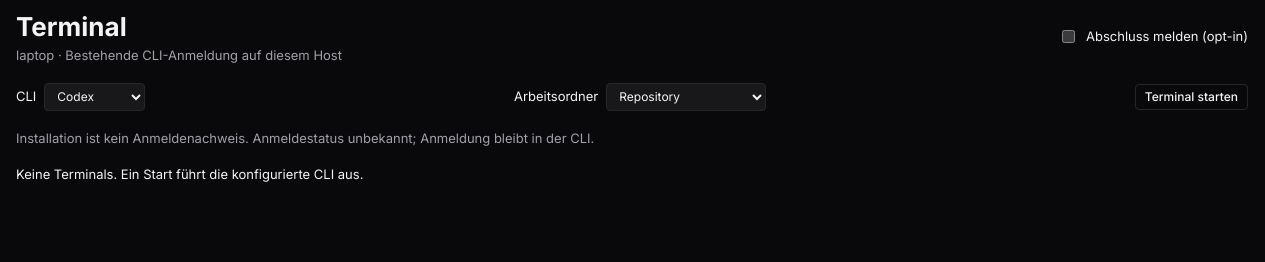
Test case: terminal robustness › explains start failures (400) and an outdated host service (404) in German
The width and height of the screenshot is (1265, 262).
Click the button "Terminal starten": (1191, 96) [1135,84,1248,110]
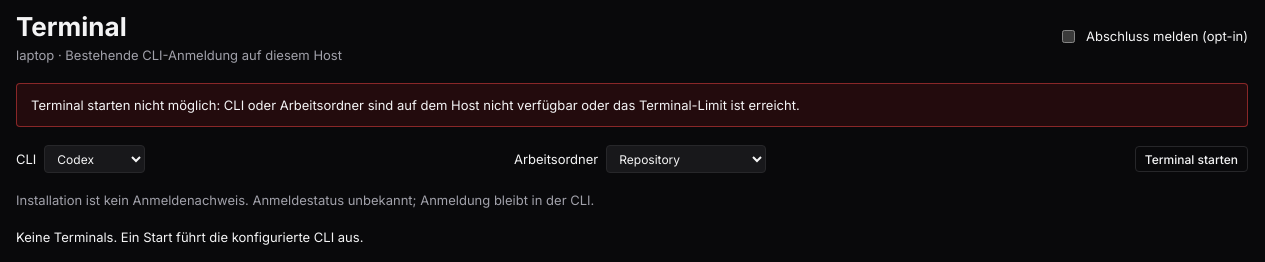
expect the 1st message shows "CLI oder Arbeitsordner sind auf dem Host nicht verfügbar": met, box [31,96,800,112]
Click the button "Terminal starten": (1191, 159) [1135,146,1248,172]
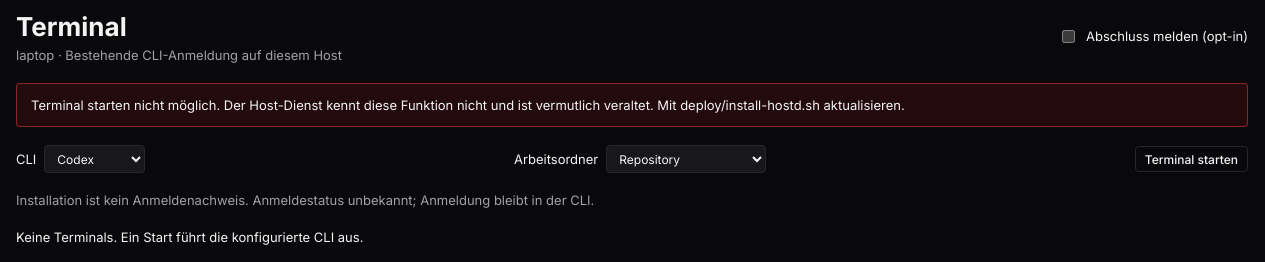
expect the 1st message shows "veraltet": met, box [31,96,905,112]
